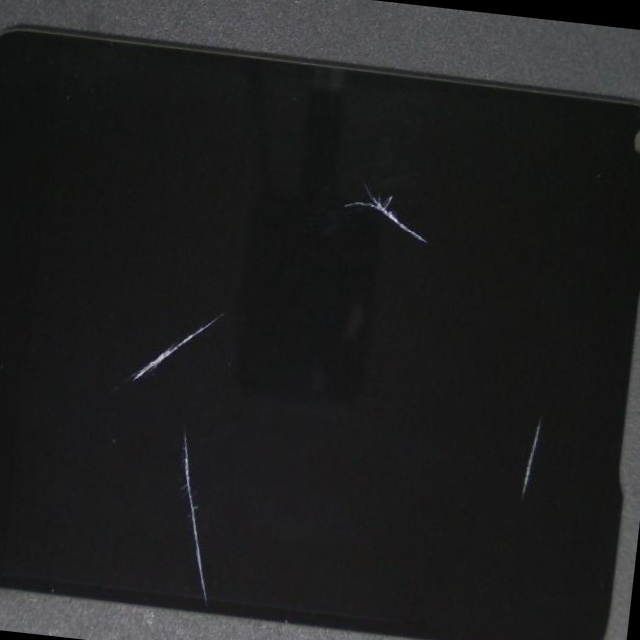scratch: (234, 230, 640, 630), (213, 56, 614, 285), (113, 100, 339, 506), (78, 380, 373, 640)
